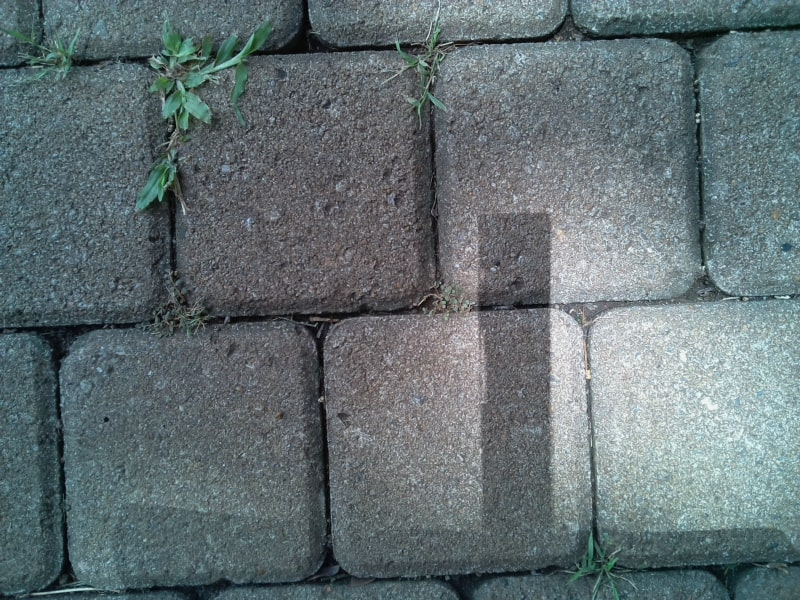Weed: (150, 42, 249, 118), (398, 33, 455, 114), (138, 273, 211, 334), (572, 536, 632, 589), (147, 148, 186, 210), (420, 280, 475, 319), (27, 39, 88, 73)
